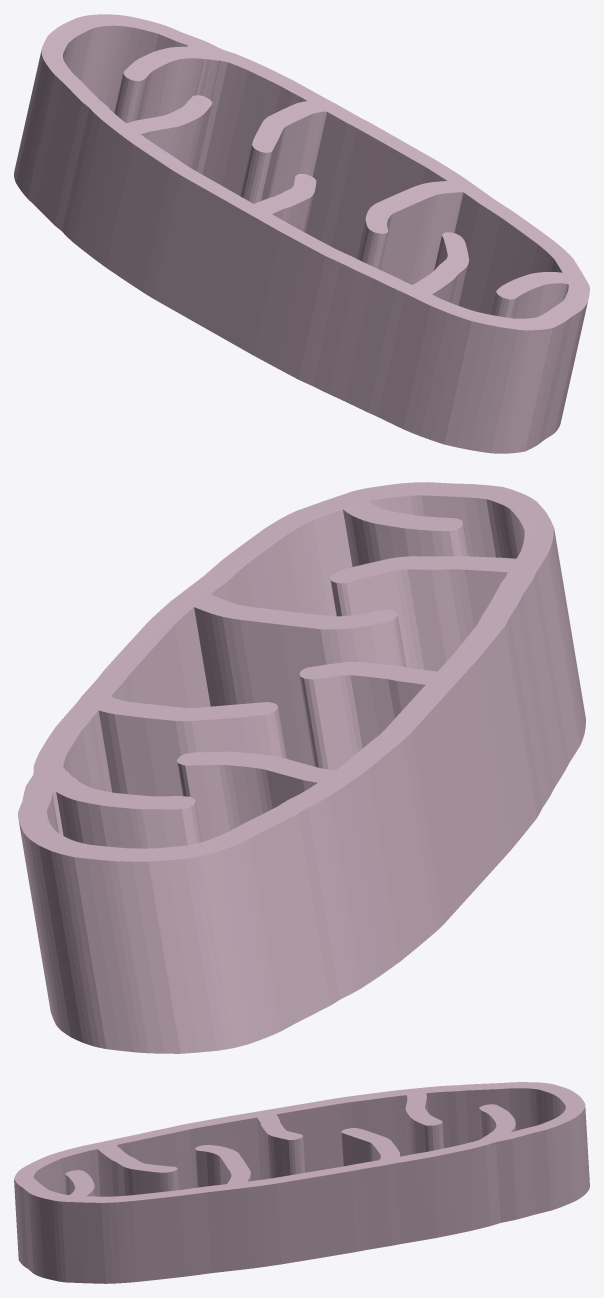
The model's file is Mitochondrion.glb.
3 renders of one model, top to bottom at view 1: azimuth 30°, elevation 25°; view 2: azimuth 150°, elevation 25°; view 3: azimuth 270°, elevation 25°, orthographic. The views are drawn at different scales.
Visible parts, largest first — view 1: Mesh_Mesh_head_geo.001_lambert2SG.001; view 2: Mesh_Mesh_head_geo.001_lambert2SG.001; view 3: Mesh_Mesh_head_geo.001_lambert2SG.001.
Boxes of the visible parts, bbox=[...] form: Mesh_Mesh_head_geo.001_lambert2SG.001: bbox=[14, 14, 589, 453]; Mesh_Mesh_head_geo.001_lambert2SG.001: bbox=[18, 482, 585, 1053]; Mesh_Mesh_head_geo.001_lambert2SG.001: bbox=[14, 1082, 589, 1283].
Bounding box in the file's own units: 3.86 × 2.36 × 9.4.
